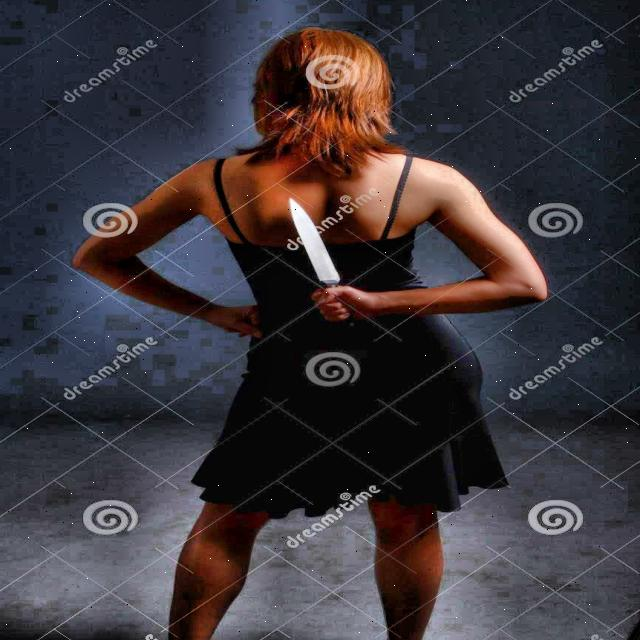knife: (287, 196, 366, 334)
